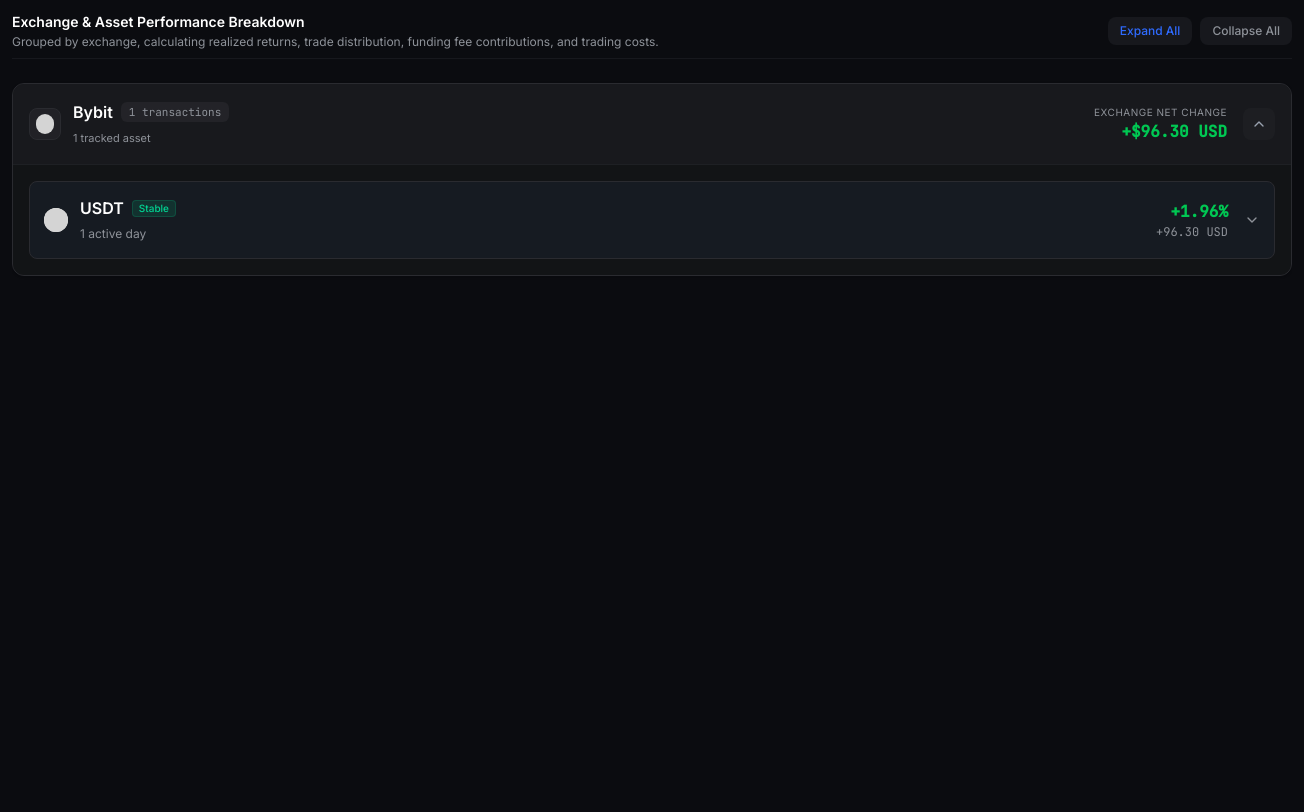
Scenario: ConsolidatedTransactionComponents › toggles currency details when clicked and responds to Expand All / Collapse All
The image size is (1304, 812).
Check: the text "Primary Result" is not shown
// Click Expand All
Click the button "Expand All" at {"x": 1150, "y": 31}, box 1108,17 -> 1192,45
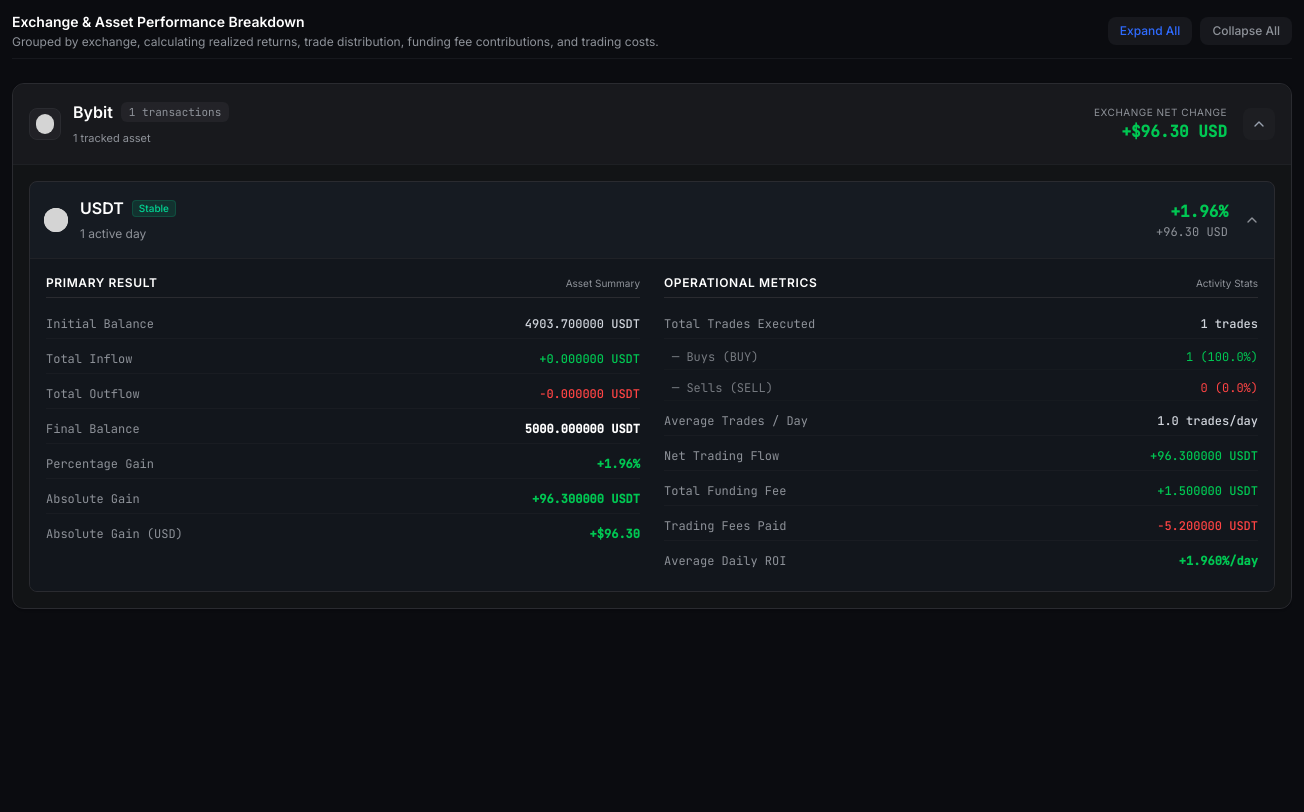
Check: the heading "Primary Result" is shown, box 46,275 -> 158,291
Check: the heading "Operational Metrics" is shown, box 664,275 -> 817,291
// Click Collapse All
Click the button "Collapse All" at {"x": 1246, "y": 31}, box 1200,17 -> 1292,45
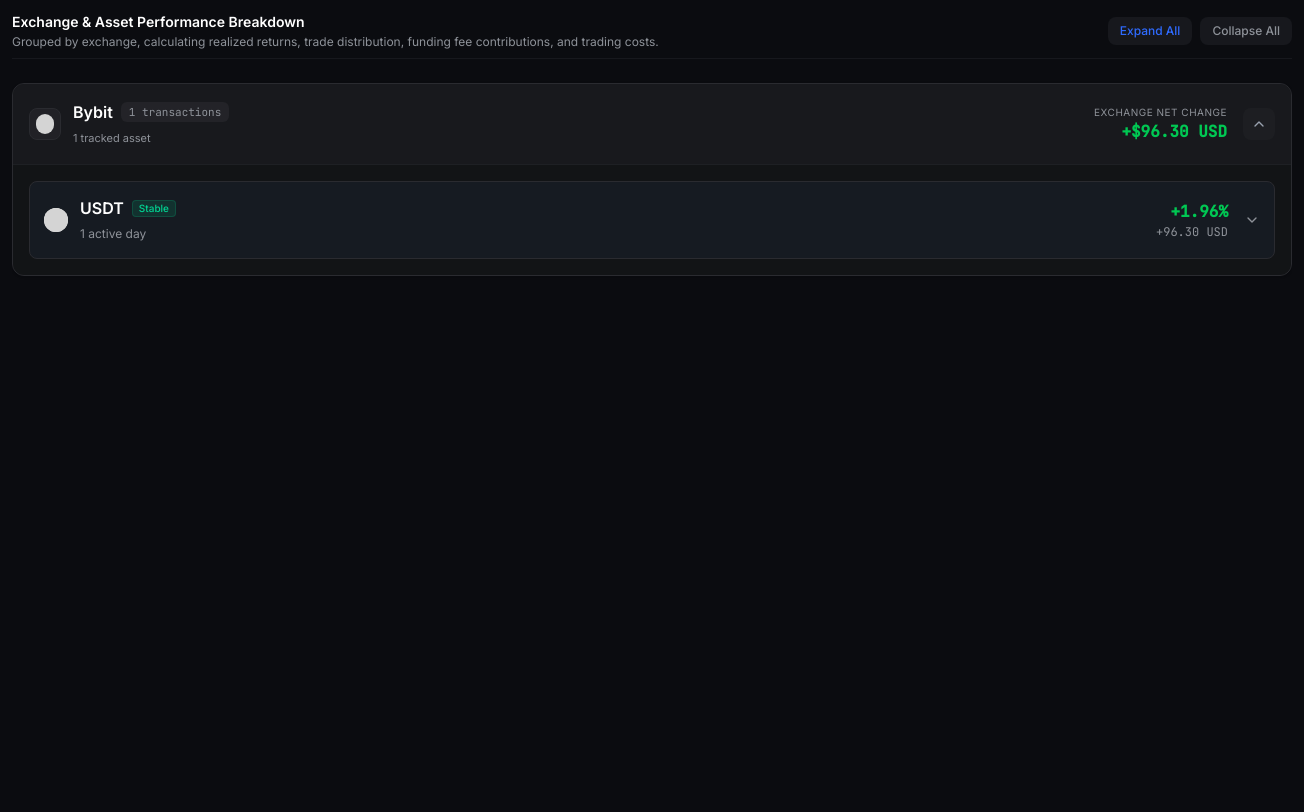
Check: the heading "Primary Result" is gone
